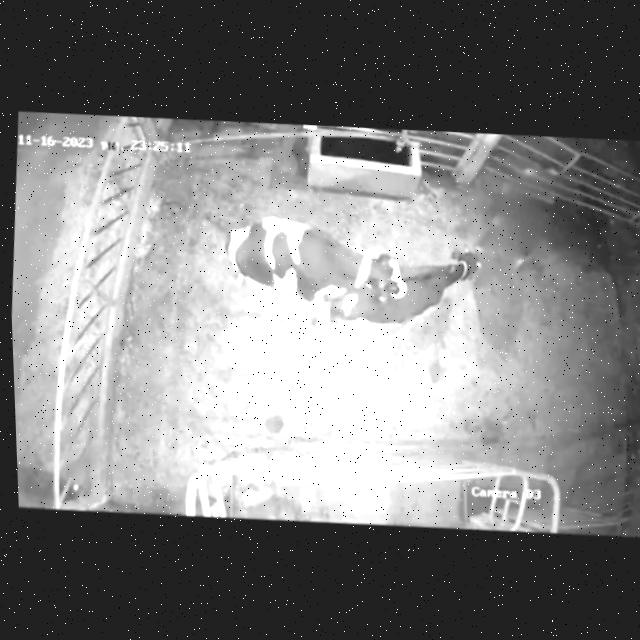ride: (194, 197, 418, 360)
stand: (337, 226, 498, 358)
